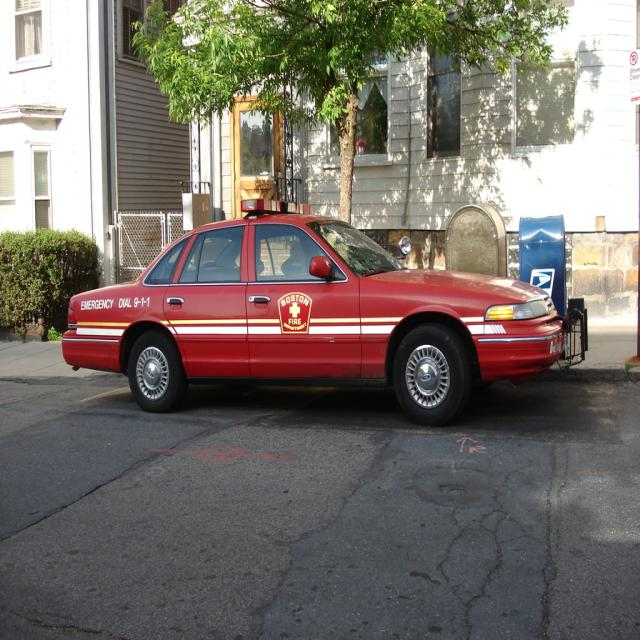car: (60, 215, 566, 428)
